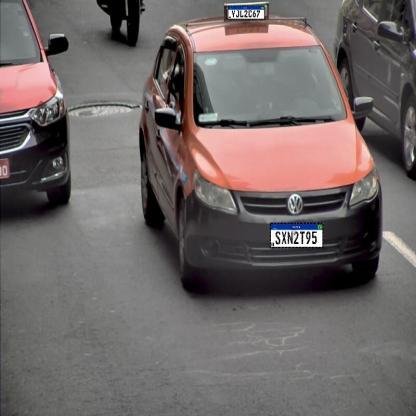PlacaM: (270, 223, 323, 248), (228, 6, 264, 20)
